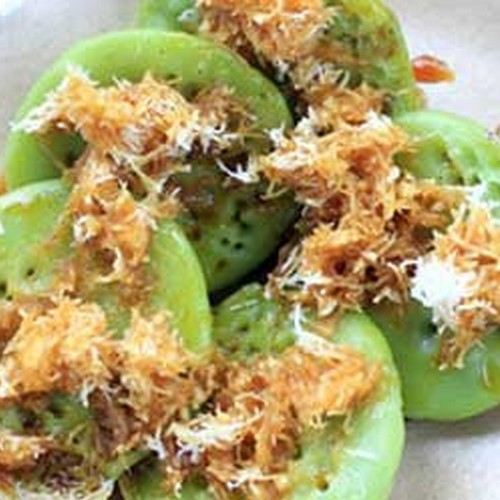laklak: (37, 15, 464, 498)
